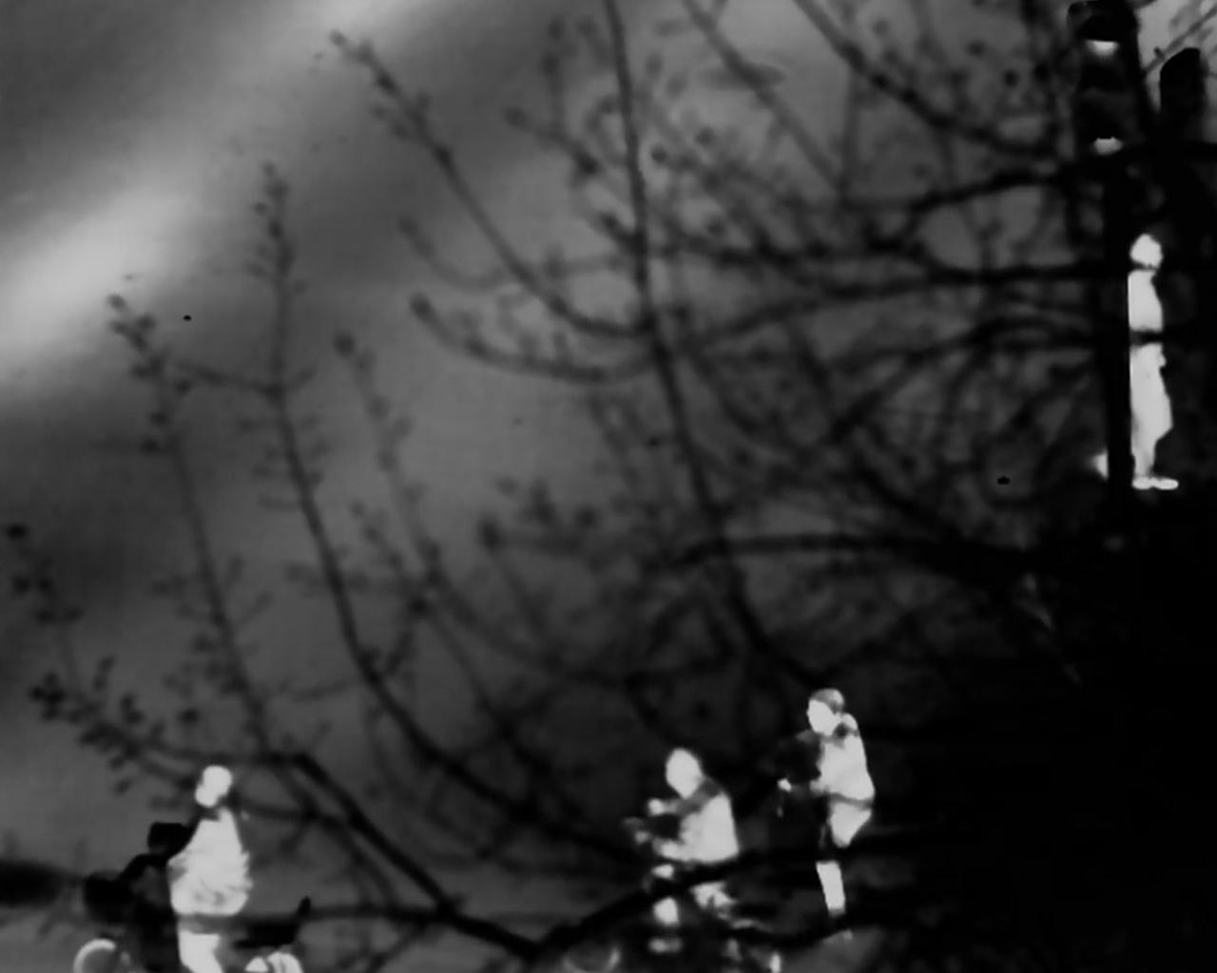person: (163, 767, 271, 973), (635, 754, 742, 959), (1113, 238, 1189, 498), (786, 693, 879, 896)
